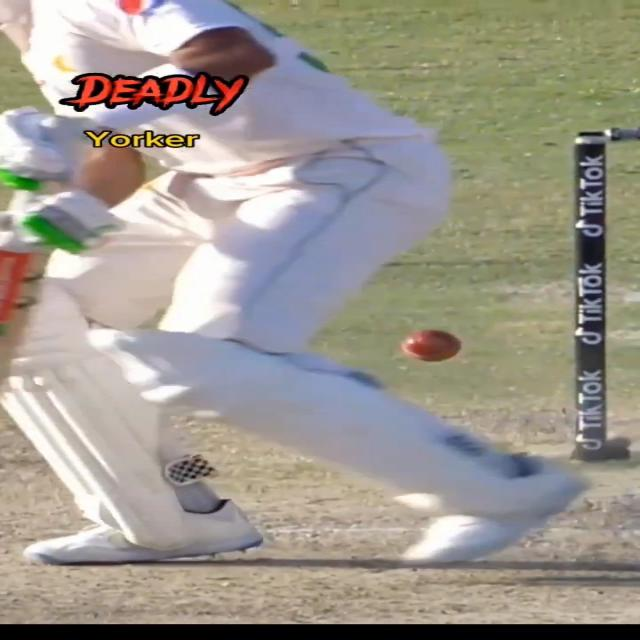Cricket ball: (398, 329, 466, 363)
